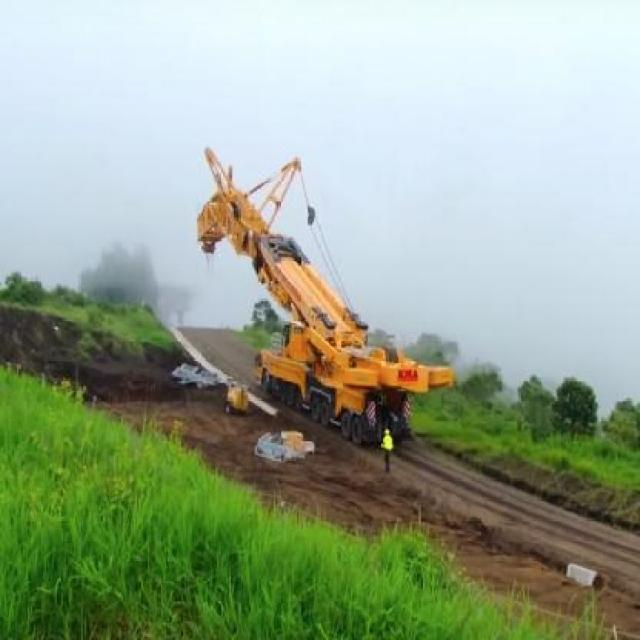Mobile Crane: (194, 143, 452, 445)
